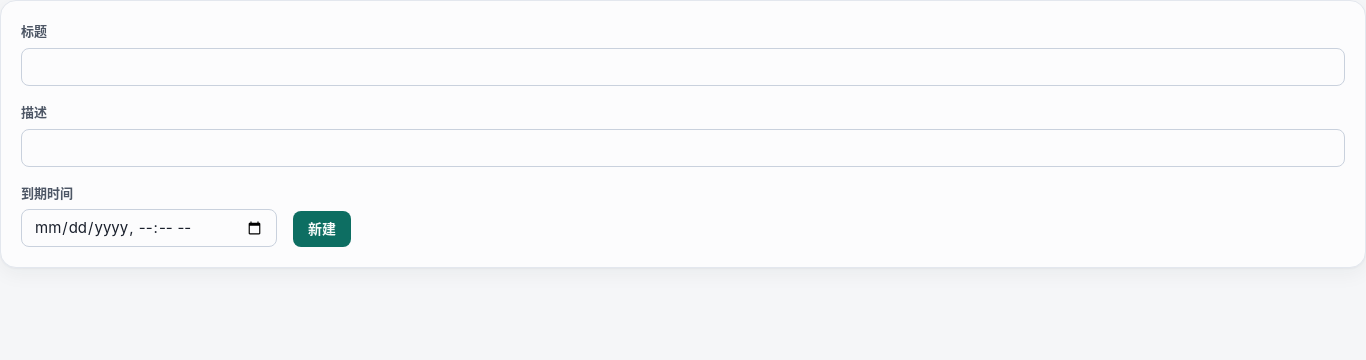
Test: ignores duplicate form submissions while creation is pending
Type "提交周报" into the field labelled "标题" at (683, 67), box x1=21 y1=48 x2=1345 y2=86
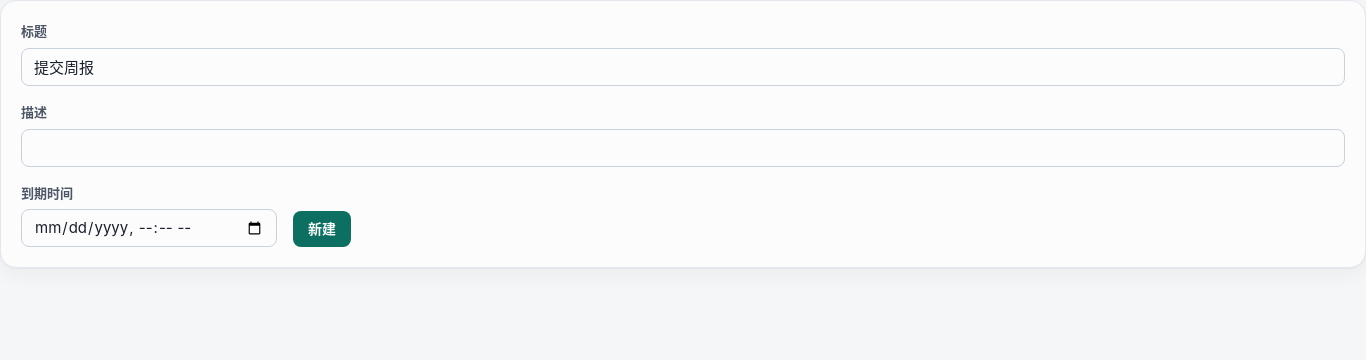
Submit the form named "新建待办"
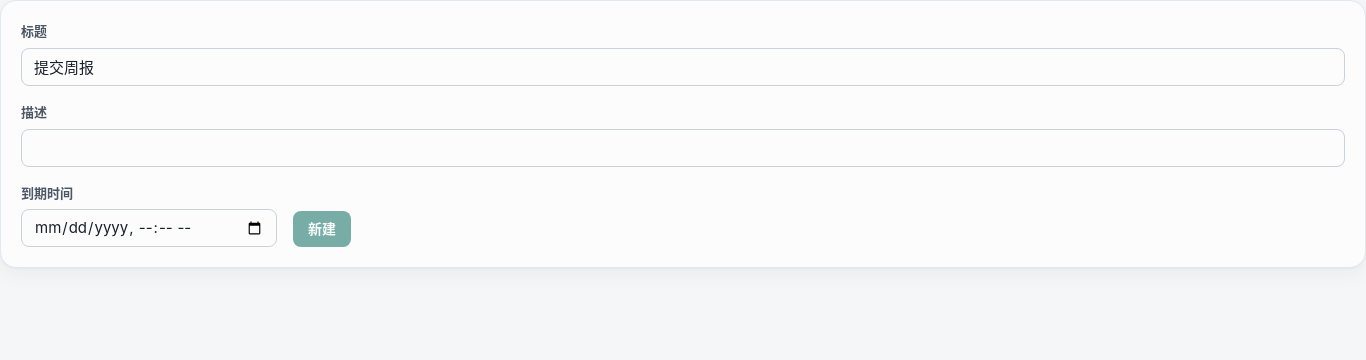
Submit the form named "新建待办"
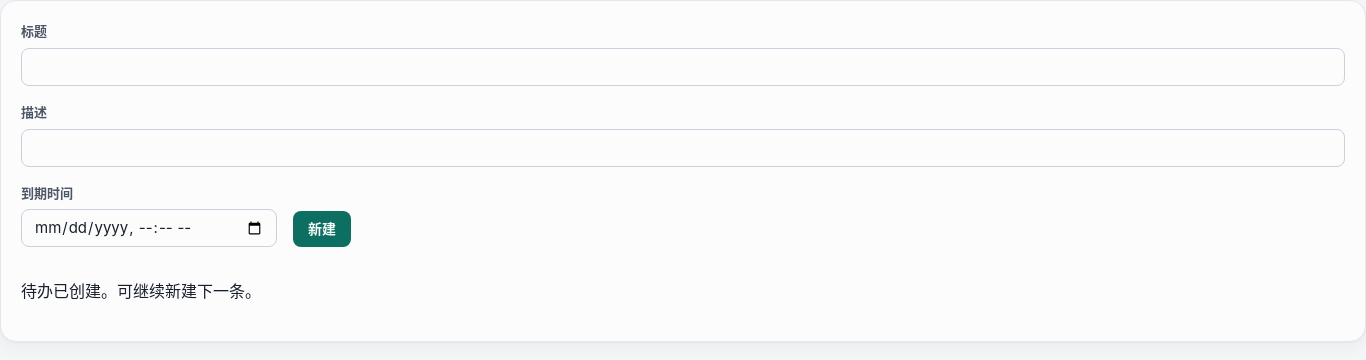
Expected: the message shows "已创建", x1=21 y1=281 x2=261 y2=301
